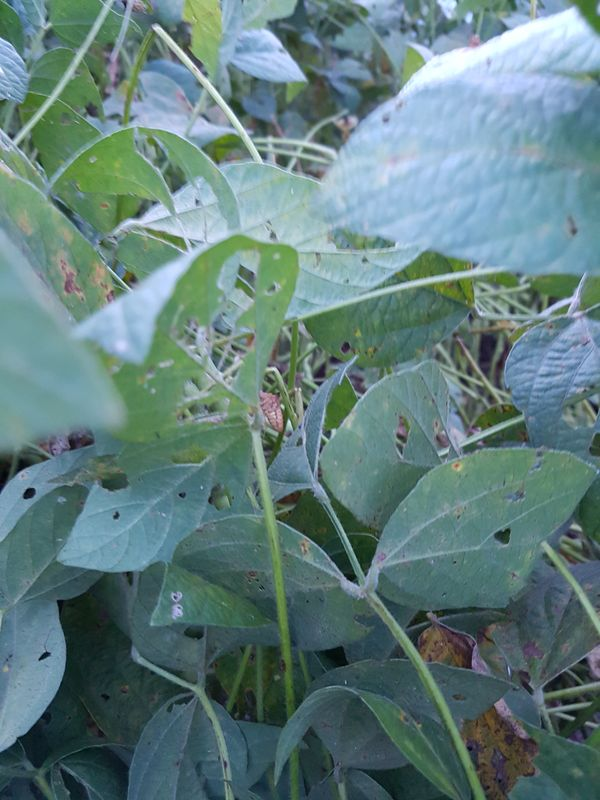Euschistus_heros_adulto: (248, 383, 292, 437)
